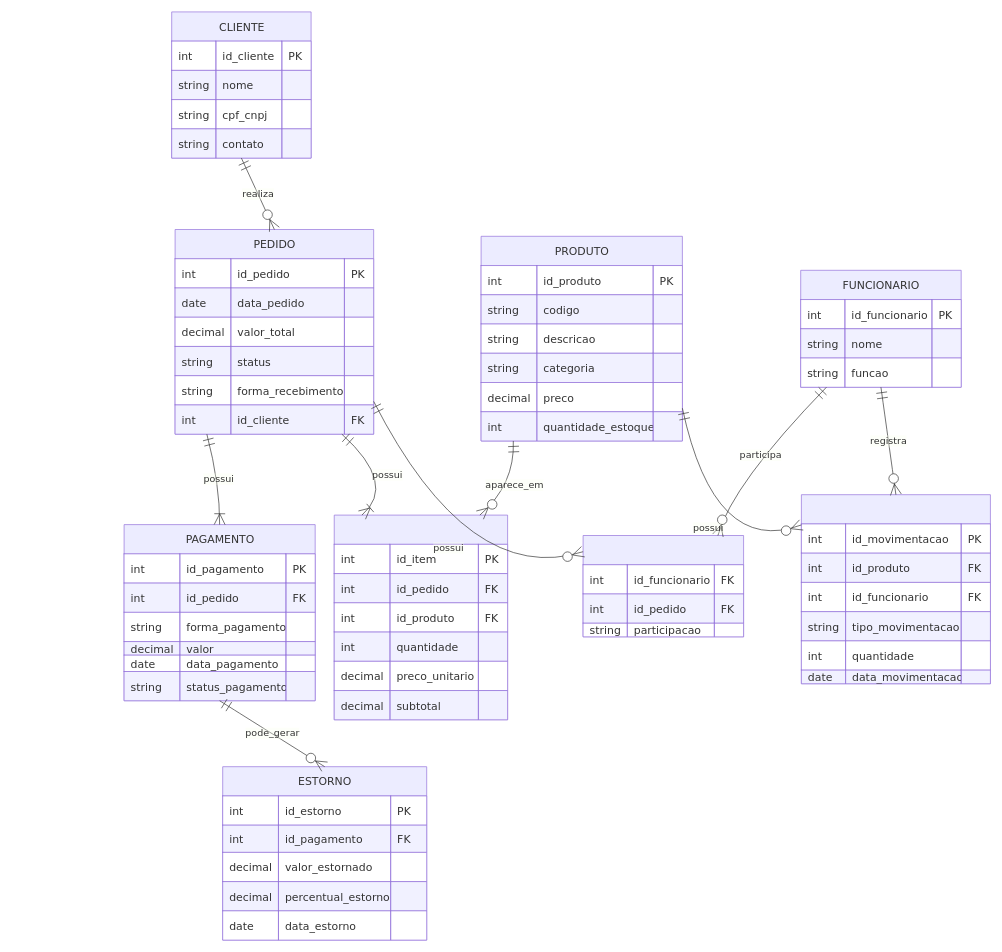
The diagram is 1002 pixels wide and 952 high, and some of its shapes have lost their labels. The shapes that lost their labels are listed below. From the top down, each one's box as (x1, y1, x2, y2) in pixels, then its label:
(582, 535, 744, 637): FUNCIONARIO_PEDIDO
(801, 494, 990, 684): MOVIMENTACAO_ESTOQUE
(334, 514, 508, 720): ITEM_PEDIDO
